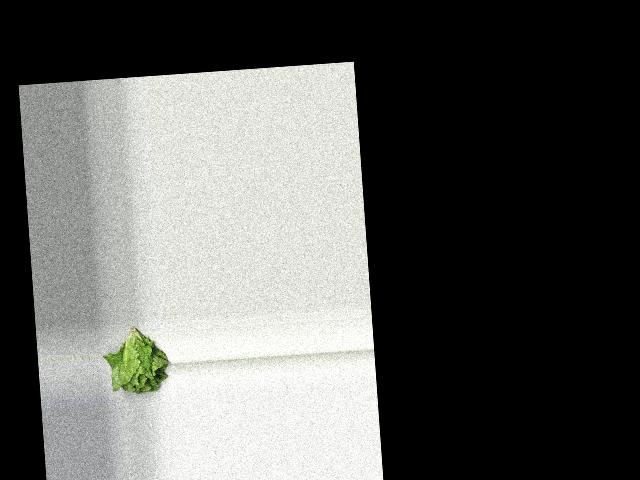lettuce: (101, 323, 170, 396)
